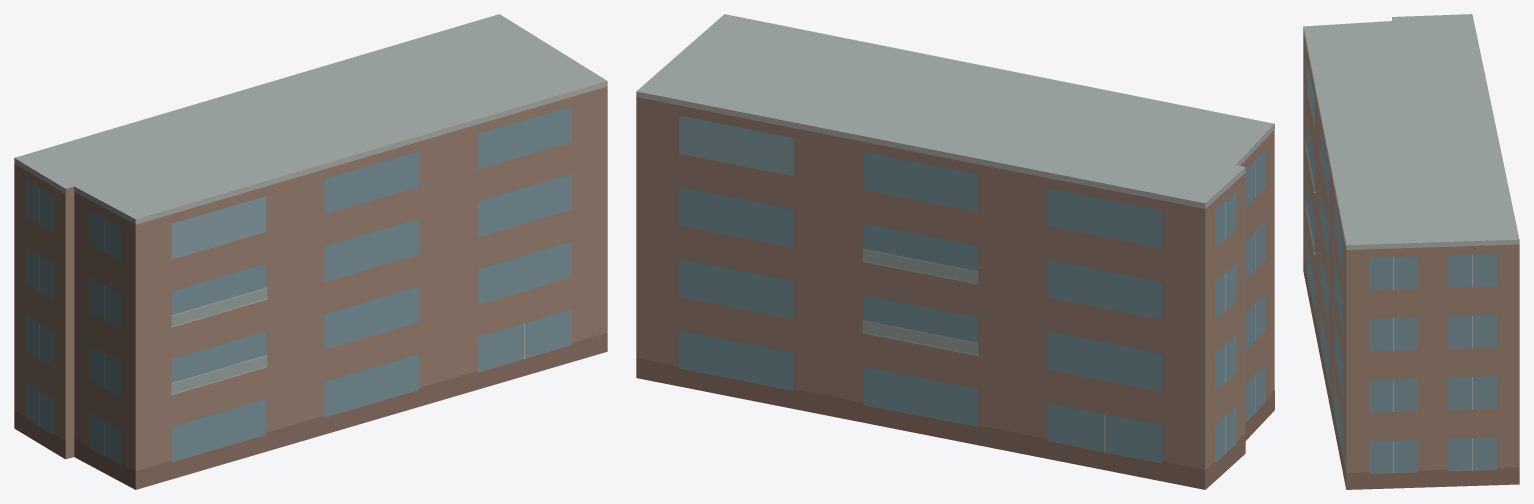
File: survey-upis-32659471.glb
3 views of the same model, side by side, from view 1: azimuth 30°, elevation 25°; view 2: azimuth 150°, elevation 25°; view 3: azimuth 270°, elevation 25° (orthographic). The views are drawn at different scales.
Visible parts, largest first — view 1: survey-upis-32659471.tmp; view 2: survey-upis-32659471.tmp; view 3: survey-upis-32659471.tmp.
Boxes of the visible parts, box(x1,y1,x2,y2) form: survey-upis-32659471.tmp: box(14, 14, 607, 489); survey-upis-32659471.tmp: box(636, 14, 1274, 489); survey-upis-32659471.tmp: box(1303, 14, 1519, 489).
Size of the model in its own units: 25.13 by 12.4 by 9.94.
